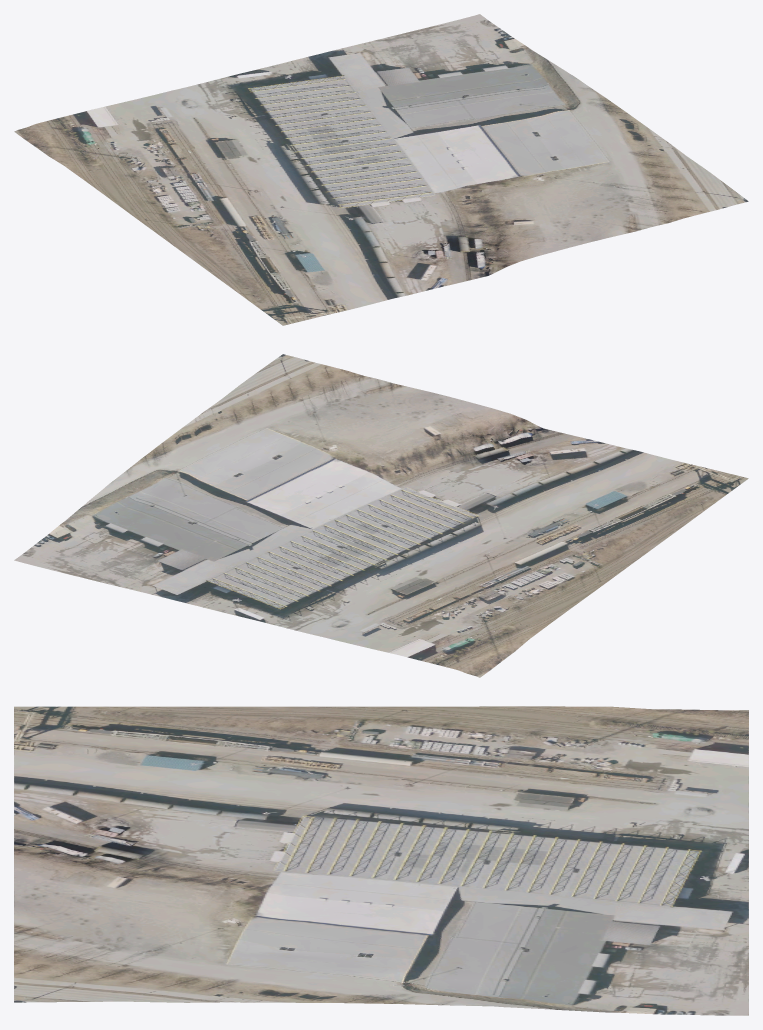
The model's file is CM_Terrain_24488001_6819794.fbx.
The picture shows the model from 3 angles, top to bottom: view 1: azimuth 30°, elevation 25°; view 2: azimuth 150°, elevation 25°; view 3: azimuth 270°, elevation 25°; orthographic projection. The views are drawn at different scales.
Parts seen in each view (by area): view 1: CM_Terrain_24488001_6819794_LOD0; view 2: CM_Terrain_24488001_6819794_LOD0; view 3: CM_Terrain_24488001_6819794_LOD0.
Boxes of the visible parts, bbox=[...] form: CM_Terrain_24488001_6819794_LOD0: bbox=[14, 14, 748, 325]; CM_Terrain_24488001_6819794_LOD0: bbox=[14, 354, 748, 677]; CM_Terrain_24488001_6819794_LOD0: bbox=[14, 706, 748, 1015].
Size of what is drawn, in the model's own units: 205 by 5.86 by 205.
